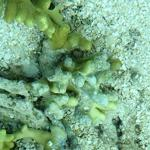dead: (1, 3, 146, 145)
